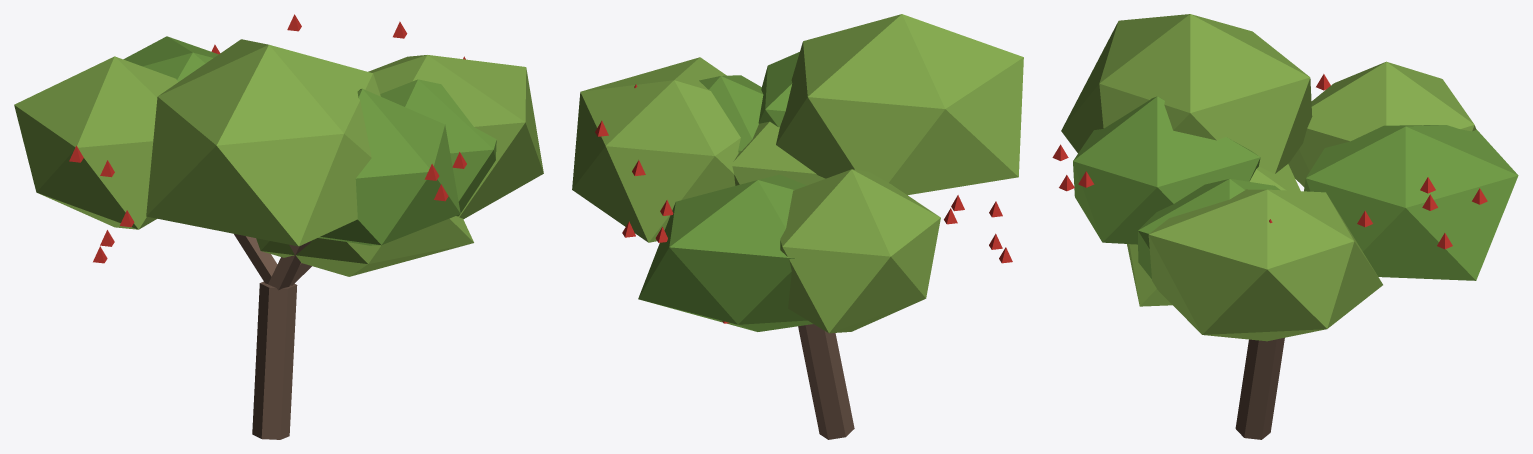
File: appeltrad_2.glb
3 renders of one model, left to right at view 1: azimuth 30°, elevation 25°; view 2: azimuth 150°, elevation 25°; view 3: azimuth 270°, elevation 25°, orthographic. The views are drawn at different scales.
Parts seen in each view (by area): view 1: appeltrad_2; view 2: appeltrad_2; view 3: appeltrad_2.
Boxes of the visible parts, x1,y1,x2,y2 form: appeltrad_2: (14,14,543,439); appeltrad_2: (572,14,1023,439); appeltrad_2: (1052,14,1518,439).
Size of the model in its own units: 4.65 by 4.27 by 4.47.
